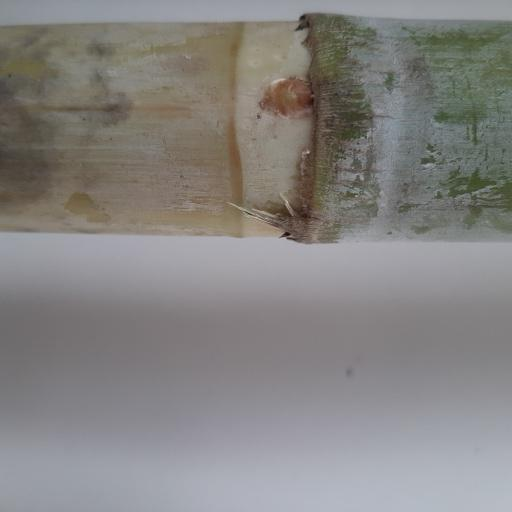Damage_Bud: (260, 79, 314, 120)
